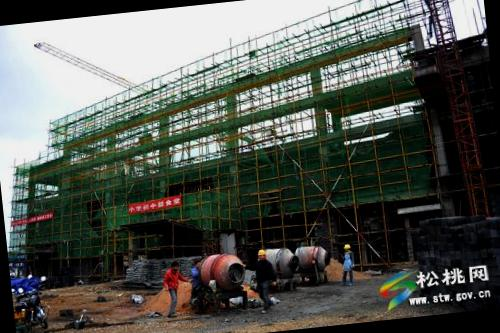no_helmet: (169, 259, 182, 273), (194, 258, 204, 270)
